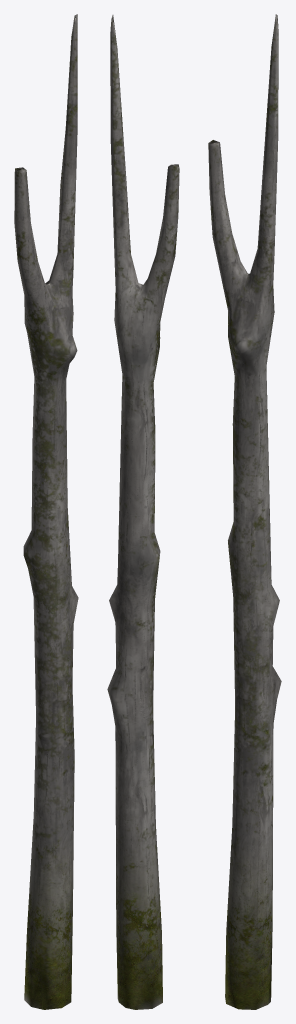
File: SM_Posts_B4.fbx
3 renders of one model, left to right at view 1: azimuth 30°, elevation 25°; view 2: azimuth 150°, elevation 25°; view 3: azimuth 330°, elevation 25°, orthographic.
Parts seen in each view (by area): view 1: SM_Posts_B4_LOD0; view 2: SM_Posts_B4_LOD0; view 3: SM_Posts_B4_LOD0.
Boxes of the visible parts, box(x1,y1,x2,y2) form: SM_Posts_B4_LOD0: box(14, 14, 78, 1009); SM_Posts_B4_LOD0: box(107, 15, 179, 1009); SM_Posts_B4_LOD0: box(208, 14, 281, 1009).
Bounding box in the file's own units: 20.3 × 16.46 × 291.
